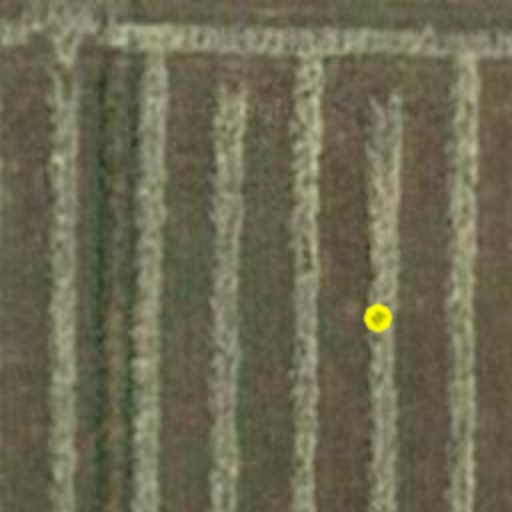octagon: (356, 296, 400, 340)
